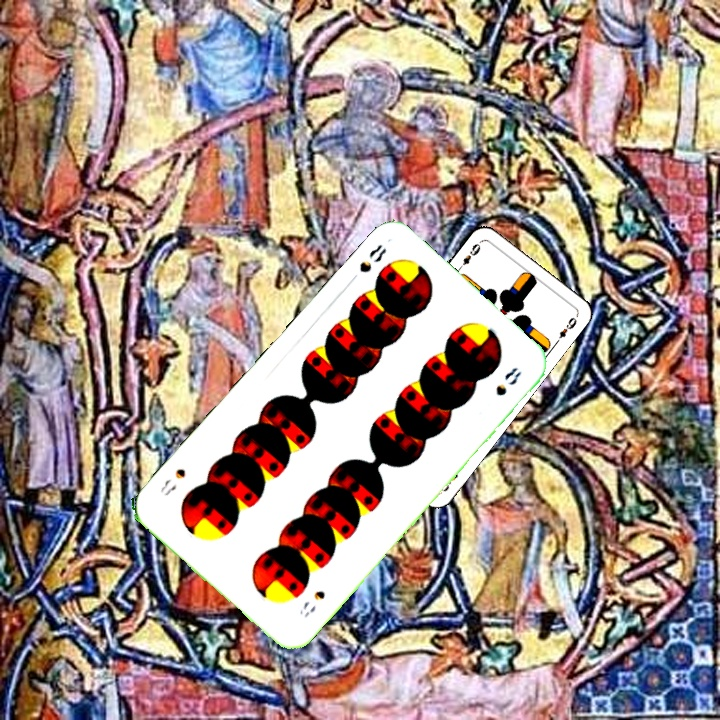E9: (454, 238, 483, 273)
S8: (344, 240, 389, 287), (295, 586, 328, 620)
